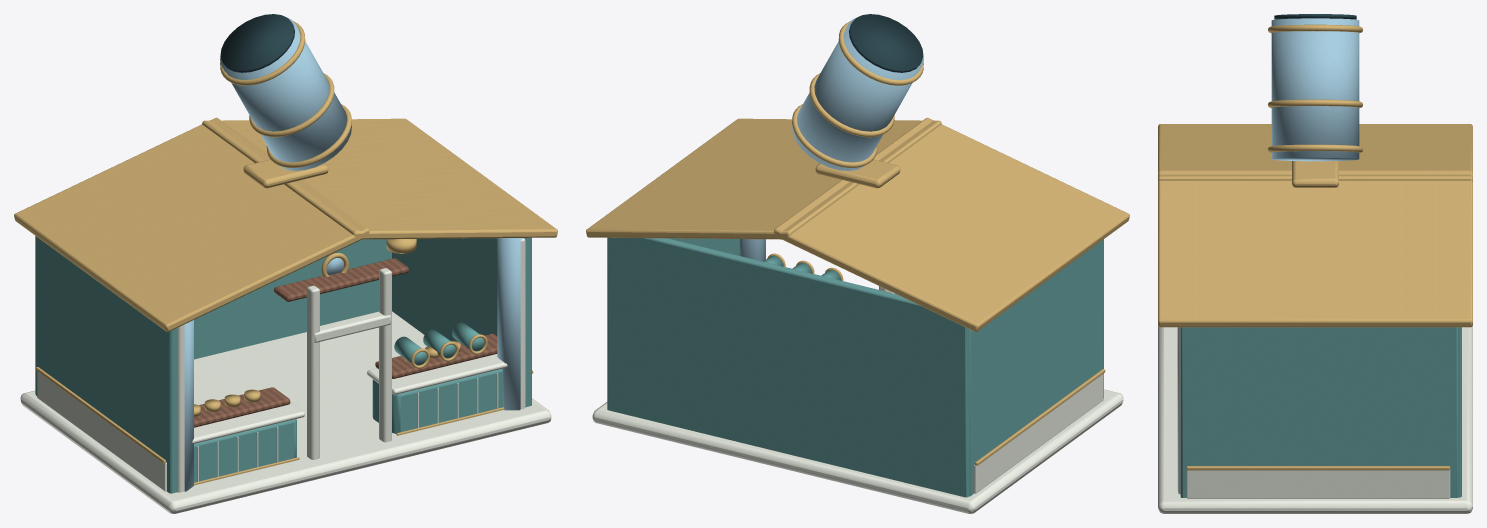
File: prism.glb
3 renders of one model, left to right at view 1: azimuth 30°, elevation 25°; view 2: azimuth 150°, elevation 25°; view 3: azimuth 270°, elevation 25°, orthographic. The views are drawn at different scales.
Visible parts, largest first — view 1: prism_Optics_PrismRoof_23, prism_Shared_Foundation_0, prism_Optics_PrismRoof_36, prism_Shared_SideWall_2, prism_Shared_SideWall_7, prism_Shared_BackWall_1, prism_Optics_Telescope_49, prism_Shared_ServiceCounter_8, prism_Shared_ServiceCounter_3, prism_Prism_LightColumn_37, prism_Detail_SideDado_68, prism_Optics_Lens_50 (+16 smaller); view 2: prism_Shared_BackWall_1, prism_Optics_PrismRoof_23, prism_Optics_PrismRoof_36, prism_Shared_SideWall_2, prism_Shared_Foundation_0, prism_Optics_Telescope_49, prism_Detail_SideDado_68, prism_Optics_Lens_50, prism_Shared_RooftopMount_62, prism_Optics_MachinedCollar_53, prism_Optics_MachinedCollar_52, prism_Optics_MachinedCollar_51 (+2 smaller); view 3: prism_Optics_PrismRoof_36, prism_Shared_SideWall_7, prism_Optics_PrismRoof_23, prism_Optics_Telescope_49, prism_Shared_Foundation_0, prism_Detail_SideDado_76, prism_Detail_SideTrim_77, prism_Shared_RooftopMount_62, prism_Optics_MachinedCollar_53, prism_Shared_BackWall_1, prism_Optics_MachinedCollar_52, prism_Optics_MachinedCollar_51 (+2 smaller).
Boxes of the visible parts, x1,y1,x2,y2 form: prism_Optics_PrismRoof_23: (14,117,369,331); prism_Shared_Foundation_0: (20,311,551,513); prism_Optics_PrismRoof_36: (202,118,557,239); prism_Shared_SideWall_2: (36,236,177,493); prism_Shared_SideWall_7: (392,237,531,406); prism_Shared_BackWall_1: (35,236,391,394); prism_Optics_Telescope_49: (220,17,351,170); prism_Shared_ServiceCounter_8: (372,369,502,433); prism_Shared_ServiceCounter_3: (194,419,296,482); prism_Prism_LightColumn_37: (497,238,523,410); prism_Detail_SideDado_68: (37,371,166,491); prism_Optics_Lens_50: (220,14,294,72); prism_Shared_BackWall_1: (607,237,968,497); prism_Optics_PrismRoof_23: (774,117,1129,331); prism_Optics_PrismRoof_36: (586,118,941,239); prism_Shared_SideWall_2: (969,239,1103,496); prism_Shared_Foundation_0: (592,389,1123,513); prism_Optics_Telescope_49: (792,17,923,170); prism_Detail_SideDado_68: (974,374,1103,493); prism_Optics_Lens_50: (849,14,923,72); prism_Shared_RooftopMount_62: (815,159,900,188); prism_Optics_MachinedCollar_53: (838,21,923,85); prism_Optics_MachinedCollar_52: (809,73,894,137); prism_Optics_MachinedCollar_51: (792,104,877,167); prism_Optics_PrismRoof_36: (1158,170,1472,327); prism_Shared_SideWall_7: (1180,327,1458,497); prism_Optics_PrismRoof_23: (1158,124,1472,181); prism_Optics_Telescope_49: (1271,18,1359,161); prism_Shared_Foundation_0: (1158,325,1472,513); prism_Detail_SideDado_76: (1186,469,1450,498); prism_Detail_SideTrim_77: (1186,466,1450,470); prism_Shared_RooftopMount_62: (1292,161,1338,187); prism_Optics_MachinedCollar_53: (1268,24,1362,33); prism_Shared_BackWall_1: (1458,327,1461,497); prism_Optics_MachinedCollar_52: (1268,99,1362,108); prism_Optics_MachinedCollar_51: (1268,144,1362,152).
Size of the model in its own units: 10.88 by 10.49 by 7.35.
Materials: 7 (5 with a texture image).
